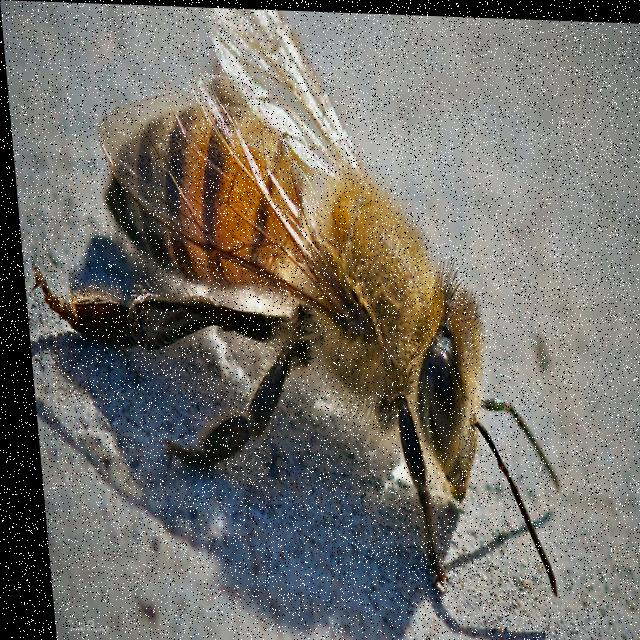Apis-mellifera-scutellata: (18, 1, 578, 640)
